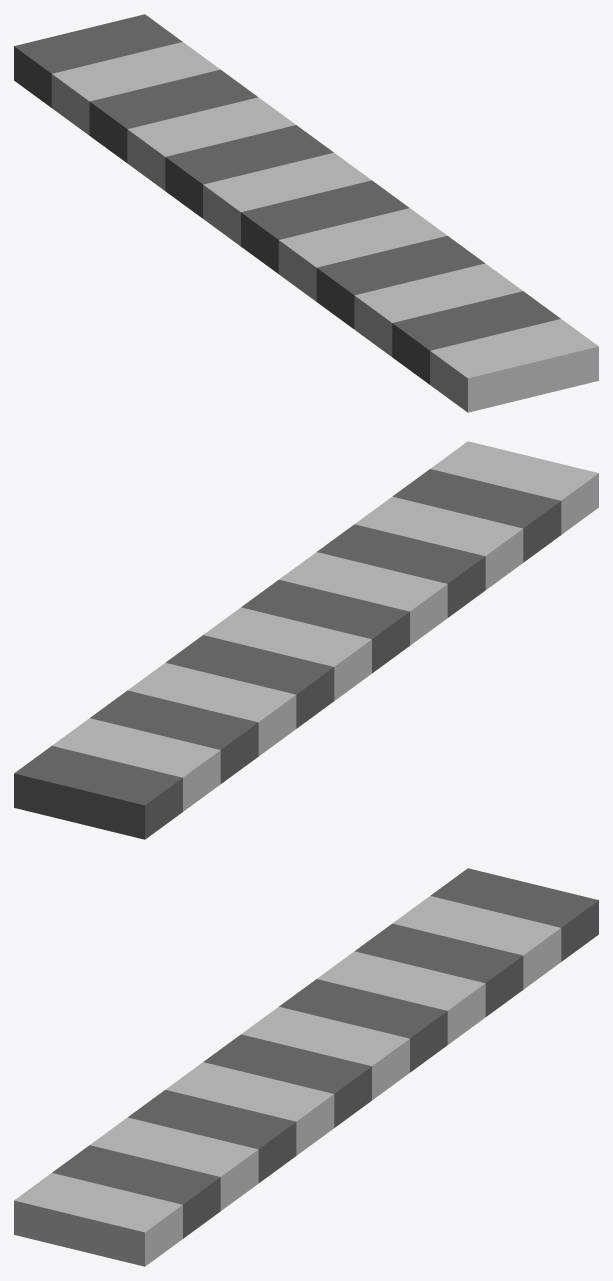
The model's file is road_06.fbx.
3 renders of one model, top to bottom at view 1: azimuth 30°, elevation 25°; view 2: azimuth 150°, elevation 25°; view 3: azimuth 330°, elevation 25°, orthographic.
Visible parts, largest first — view 1: road_06; view 2: road_06; view 3: road_06.
Boxes of the visible parts, x1=… form: road_06: x1=14, y1=14, x2=598, y2=412; road_06: x1=14, y1=441, x2=598, y2=839; road_06: x1=14, y1=868, x2=598, y2=1266.
Size of the model in its own units: 10.21 by 2.55 by 61.25.
